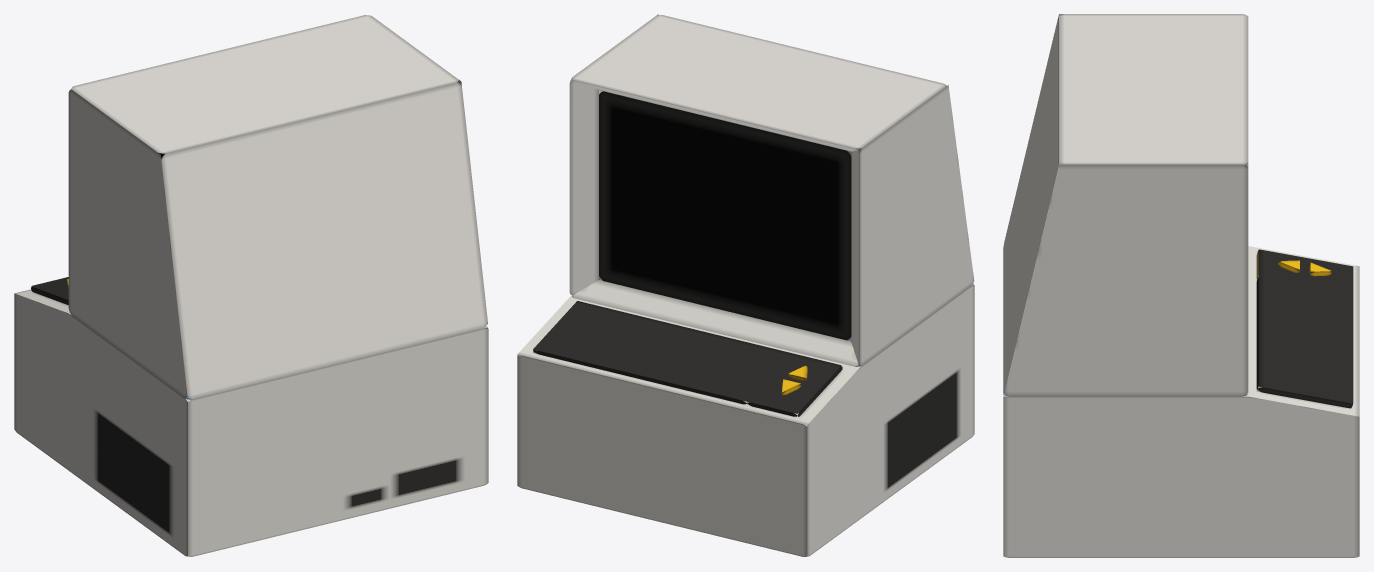
Rendered from Terminal.fbx.
3 views of the same model, side by side, from view 1: azimuth 30°, elevation 25°; view 2: azimuth 150°, elevation 25°; view 3: azimuth 270°, elevation 25° (orthographic). The views are drawn at different scales.
Visible parts, largest first — view 1: cube; view 2: cube; view 3: cube.
Boxes of the visible parts, x1,y1,x2,y2 form: cube: [14, 15, 488, 556]; cube: [517, 14, 974, 556]; cube: [1003, 14, 1359, 557].
Bounding box in the file's own units: 200 × 244 × 200.
Materials: 1 (1 with a texture image).
